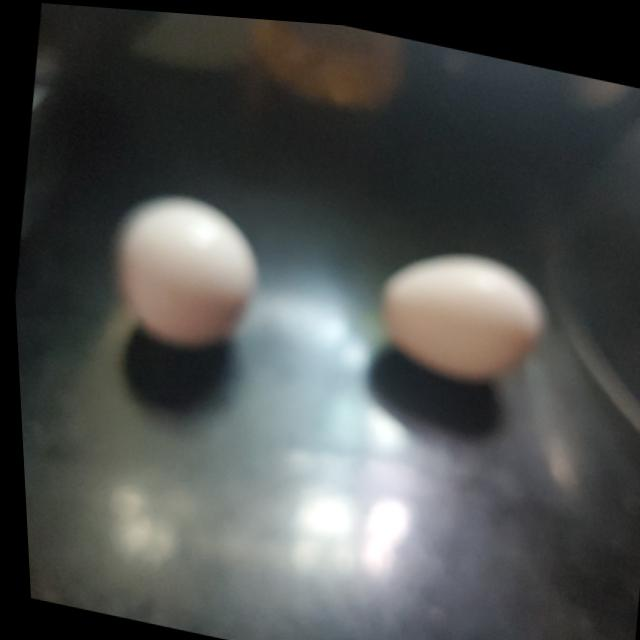egg: (94, 174, 271, 363), (363, 224, 555, 392)
